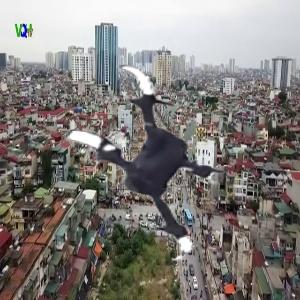drone: (35, 60, 242, 267)
